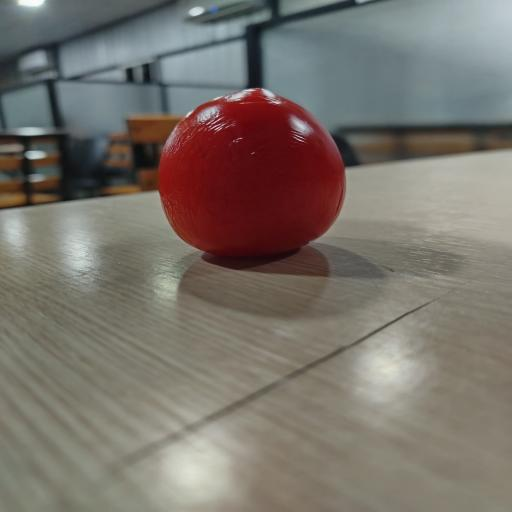spoiled: (159, 89, 346, 256)
